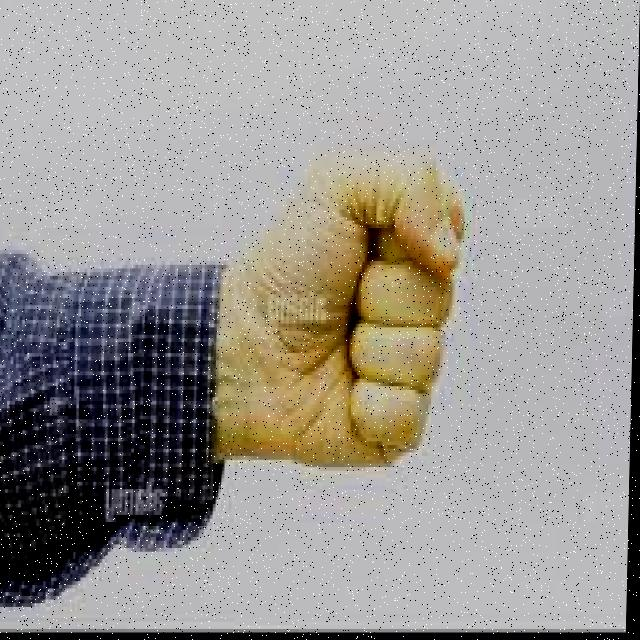rock: (175, 114, 479, 540)
